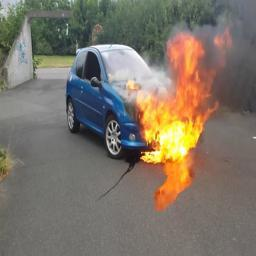fire: (127, 29, 231, 162)
